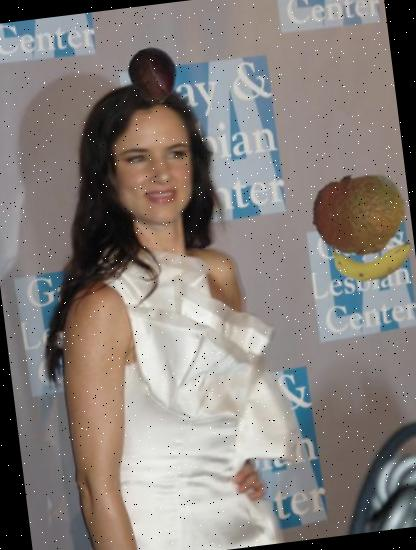Banana: (328, 213, 416, 304)
Chestnut: (122, 44, 186, 107)
Mandarine: (306, 162, 412, 268)
